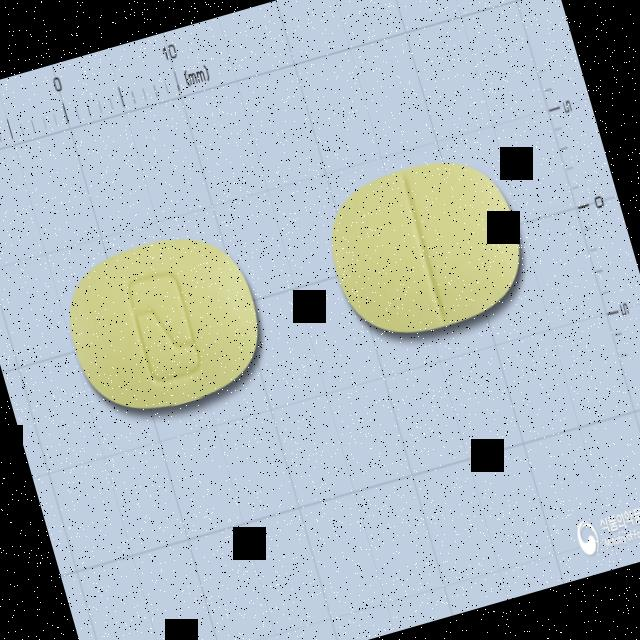Claroma Tab-500mg: (50, 213, 278, 432)
